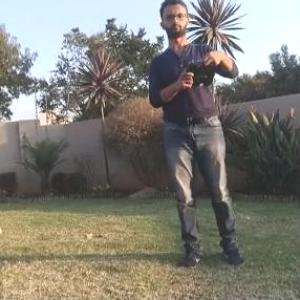follow: (144, 0, 249, 278)
